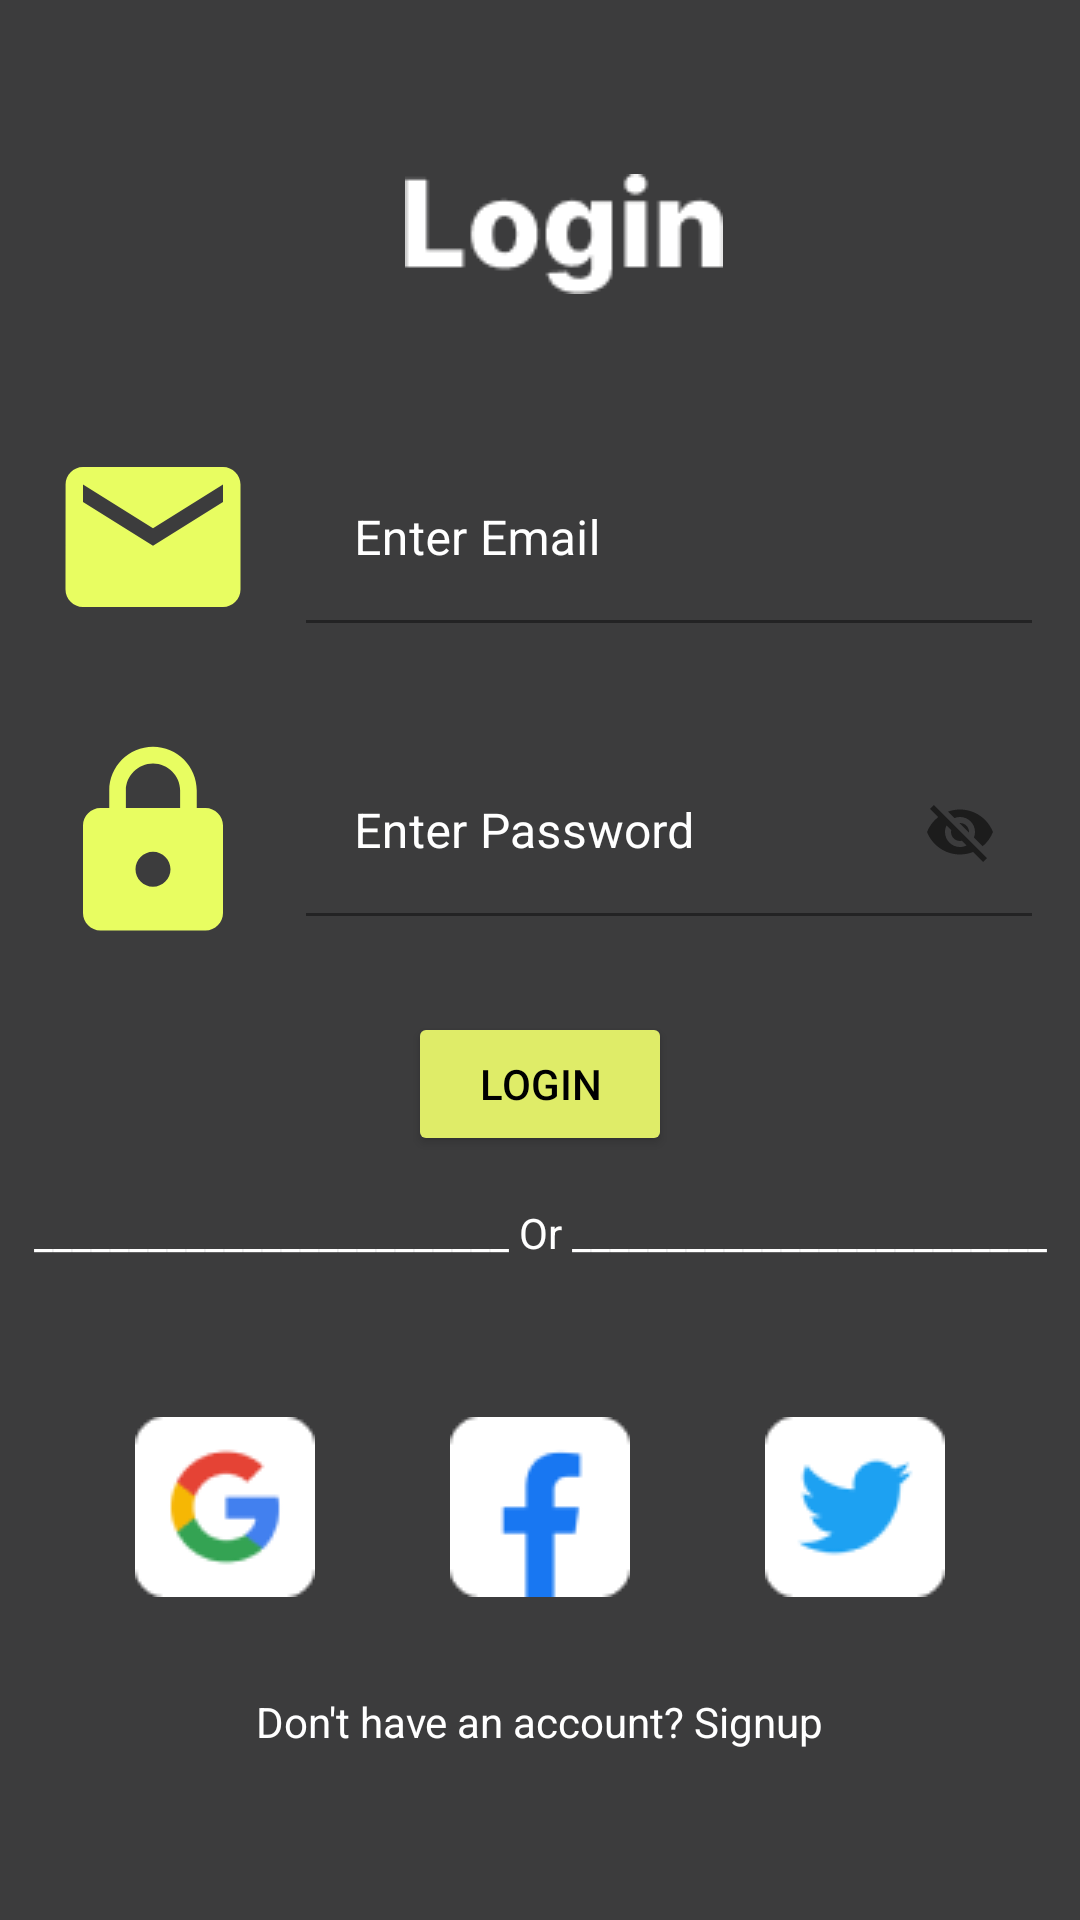

Icon click points for this 1080×1920 phone screenshot, format [x,y]:
lock: [153,838]
